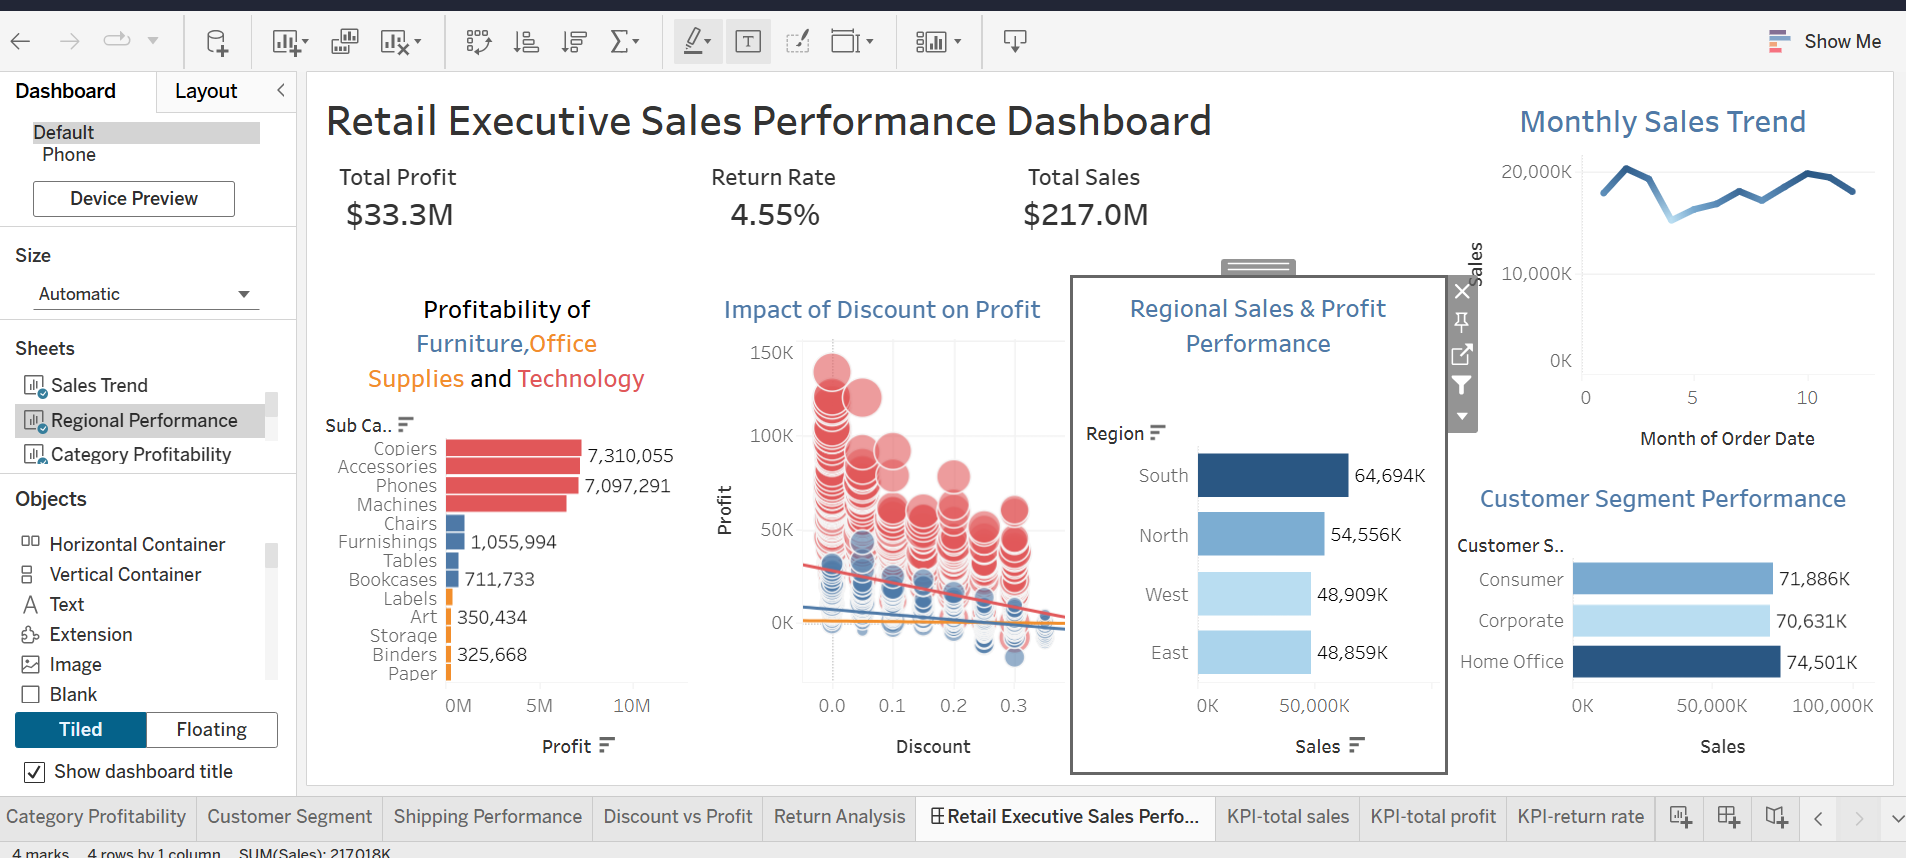

Layout of this report page (visuals, bound fields, positions):
{"tool":"tableau","page":{"name":"Retail Executive Sales Performance Dashboard","canvas":[1000,1000],"units":"permille","ordinal":0},"visuals":[{"type":"title","box":[6.5,16.8,751.4,96.8]},{"type":"worksheet","title":"Sales Trend","mark":"Line","rows":["sales"],"cols":["order_date"],"box":[757.9,16.8,235.6,534.7]},{"type":"worksheet","title":"KPI-total profit","mark":"Automatic","box":[6.5,113.7,250.1,172.6]},{"type":"worksheet","title":"KPI-return rate","mark":"Automatic","box":[256.6,113.7,207.1,172.6]},{"type":"worksheet","title":"KPI-total sales","mark":"Automatic","box":[463.7,113.7,294.2,172.6]},{"type":"worksheet","title":"Category Profitability","mark":"Automatic","rows":["sub_category"],"cols":["profit"],"box":[6.5,286.2,250.4,696.9]},{"type":"worksheet","title":"Discount vs Profit","mark":"Circle","rows":["profit"],"cols":["discount"],"box":[256.9,286.2,250.5,696.9]},{"type":"worksheet","title":"Regional Performance","mark":"Bar","rows":["region"],"cols":["sales"],"box":[507.4,286.2,250.6,696.9]},{"type":"worksheet","title":"Customer Segment","mark":"Bar","rows":["customer_segment"],"cols":["sales"],"box":[757.9,551.6,235.6,431.6]}]}

Visuals, with their boxes on the dashboard's canvas, which has no fixed pixel size, in thousandths of its width and height (x1, y1, x2, y2). These are canvas units, not pixel positions in the 1906x858 screenshot, which may show the page scaled, cropped or inside an application window:
title: [6,17,758,114]
"Sales Trend" worksheet (Line marks): [758,17,994,552]
"KPI-total profit" worksheet: [6,114,257,286]
"KPI-return rate" worksheet: [257,114,464,286]
"KPI-total sales" worksheet: [464,114,758,286]
"Category Profitability" worksheet: [6,286,257,983]
"Discount vs Profit" worksheet (Circle marks): [257,286,507,983]
"Regional Performance" worksheet (Bar marks): [507,286,758,983]
"Customer Segment" worksheet (Bar marks): [758,552,994,983]
